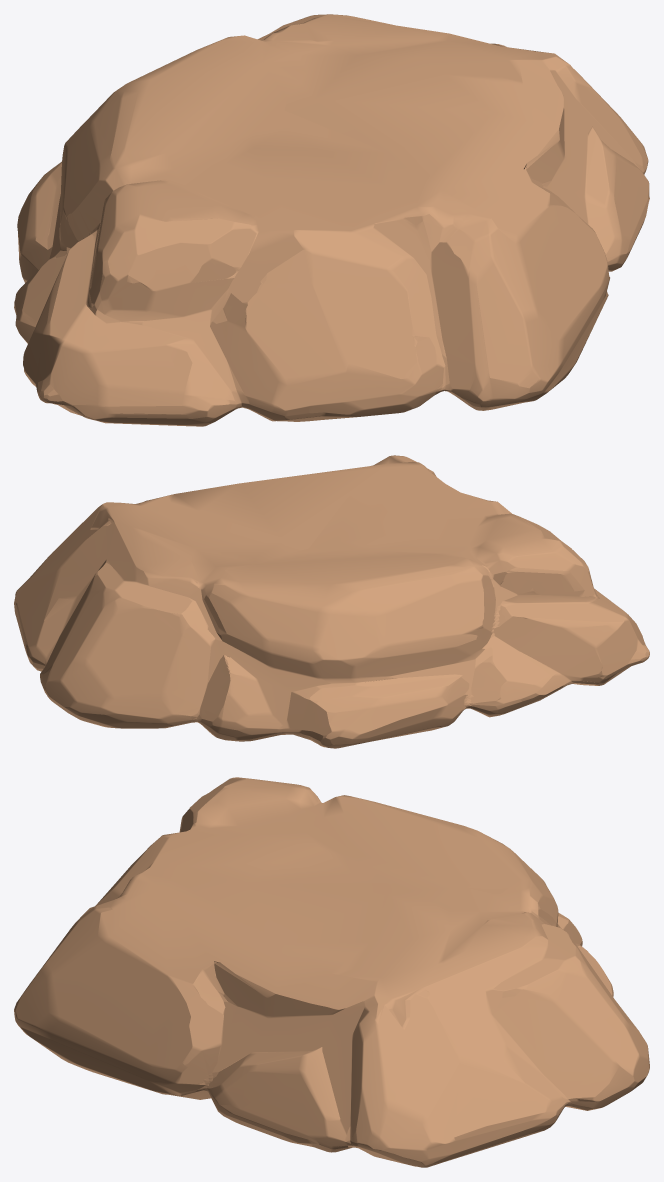
3 views of the same model, one above another, from view 1: azimuth 30°, elevation 25°; view 2: azimuth 150°, elevation 25°; view 3: azimuth 270°, elevation 25° (orthographic). The views are drawn at different scales.
Parts seen in each view (by area): view 1: Mesh_105_LOD0; view 2: Mesh_105_LOD0; view 3: Mesh_105_LOD0.
Part boxes in pixels (bbox=[...]): Mesh_105_LOD0: bbox=[14, 14, 649, 426]; Mesh_105_LOD0: bbox=[14, 455, 649, 748]; Mesh_105_LOD0: bbox=[14, 777, 649, 1167].
Size of what is drawn, in the model's own units: 2769 by 667 by 2480.
